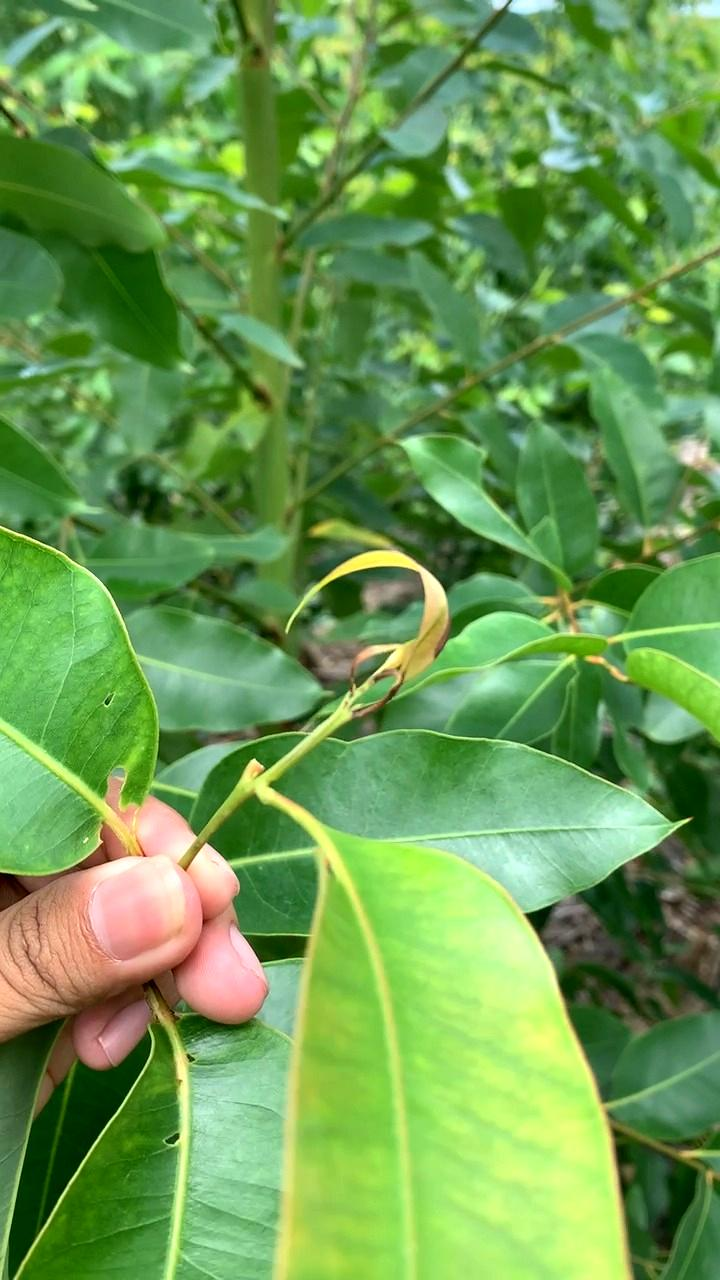Helopeltis-Withered Sprout: (261, 521, 465, 727)
